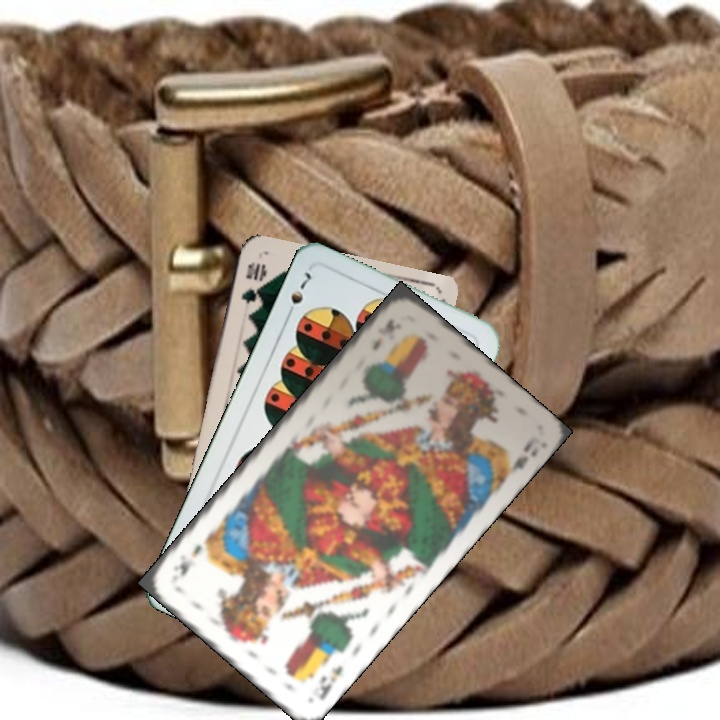EK: (315, 661, 346, 704), (368, 314, 397, 354)
G10: (237, 258, 268, 306)
S7: (282, 268, 315, 321)
